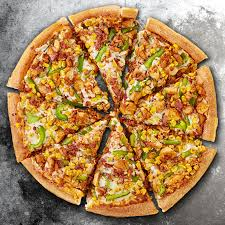pizza: (9, 9, 217, 216)
